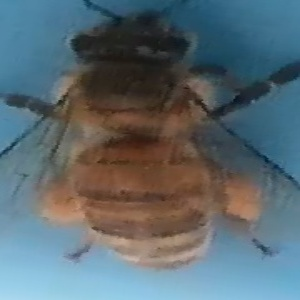bee: (8, 2, 298, 275)
